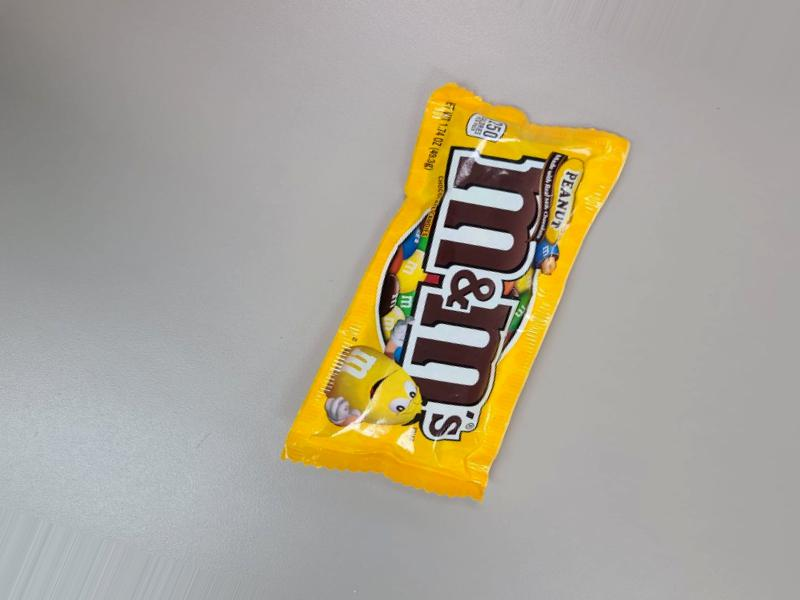m&m: (311, 77, 664, 544)
